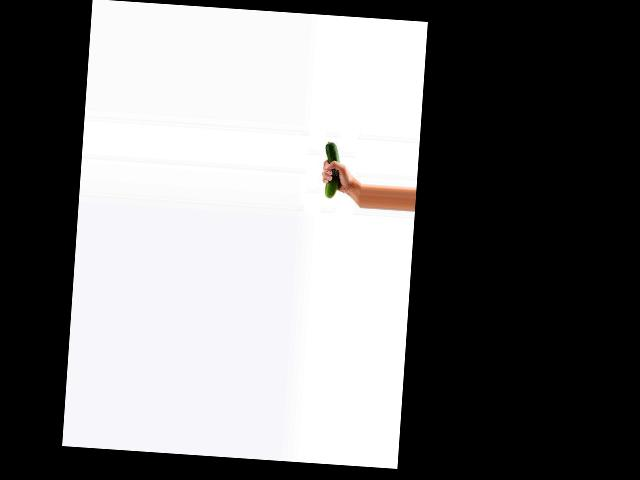cucumber: (321, 141, 341, 198)
